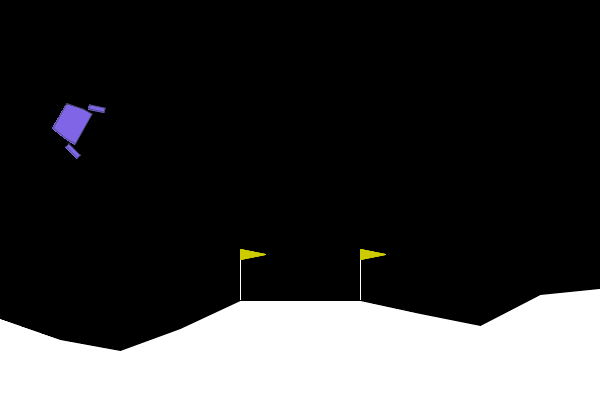lander: (43, 89, 107, 161)
